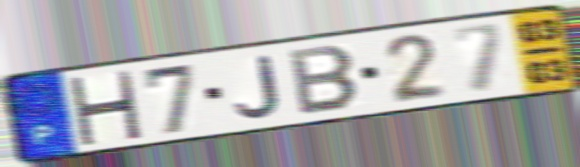2: (382, 32, 450, 106)
7: (139, 63, 200, 137), (450, 19, 507, 96)
B: (285, 43, 363, 117)
H: (64, 69, 144, 147)
J: (231, 52, 285, 121)
